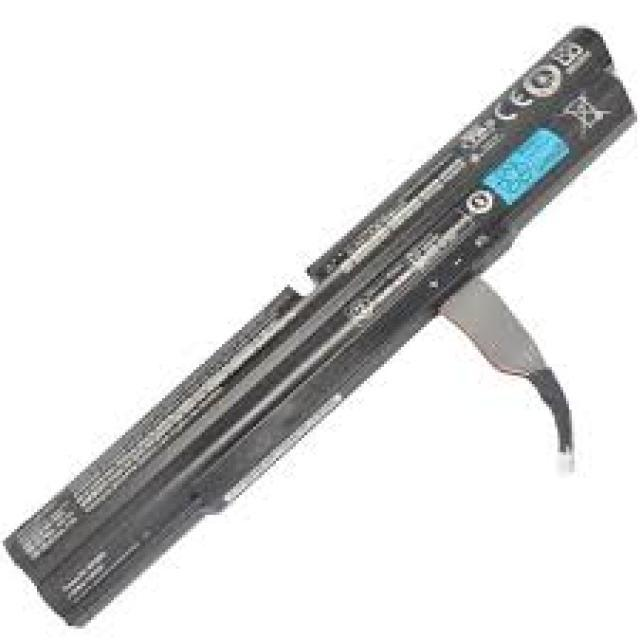Battery: (3, 15, 640, 640)
